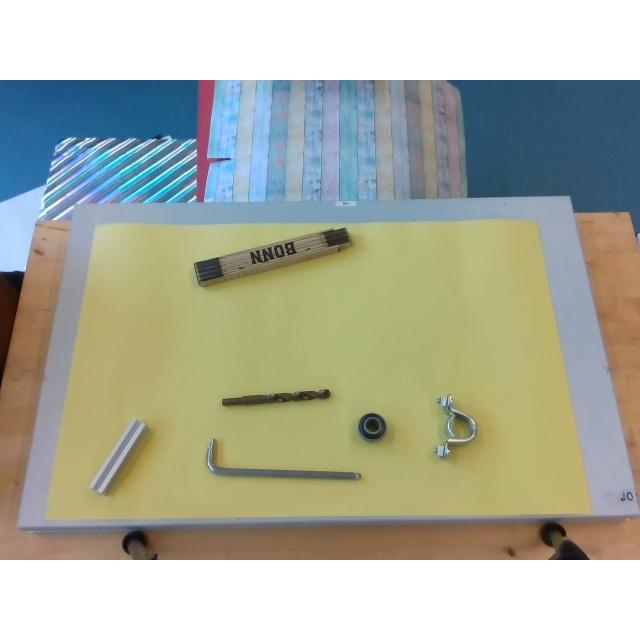AllenKey: (205, 436, 362, 479)
Bearing2: (358, 412, 386, 440)
Drill: (222, 389, 331, 405)
F20_20_G: (89, 418, 148, 494)
Housing: (434, 393, 478, 457)
